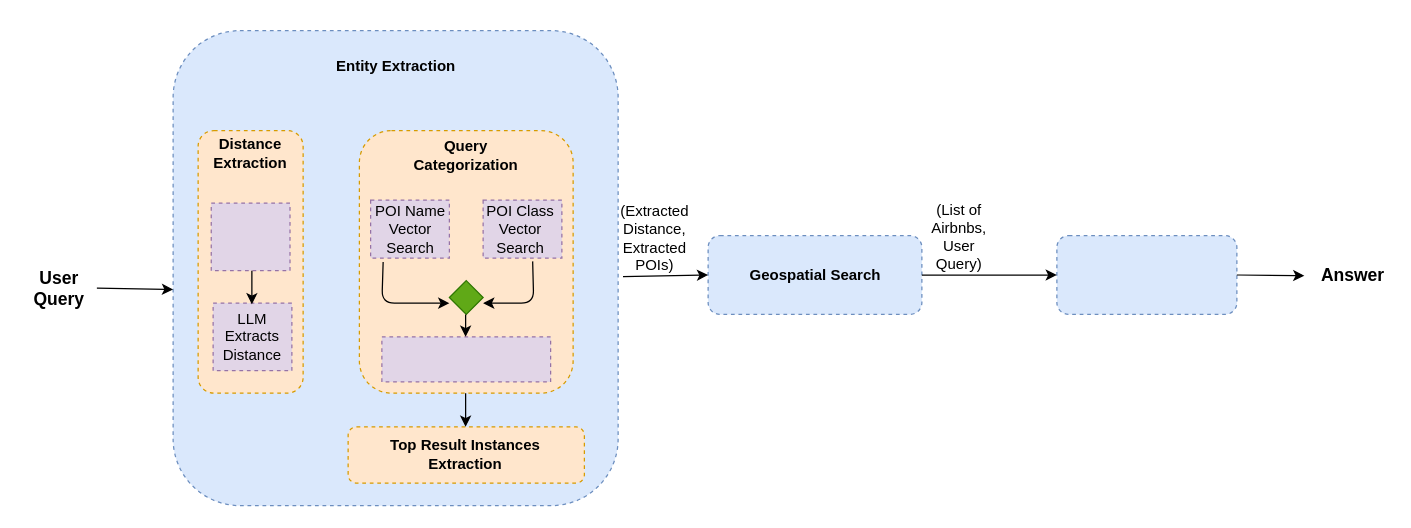
Image size: 1411x528. Some labels were removed from this diagram. The shapes that lost their labels are listed below. From the top down, each one's box as (x1, y1, x2, y2) in pixels, then its label:
(210, 202, 290, 271): Query Passed to LLM
(1056, 234, 1237, 314): Answer Generation
(381, 336, 551, 382): Query Gets Category Tag
